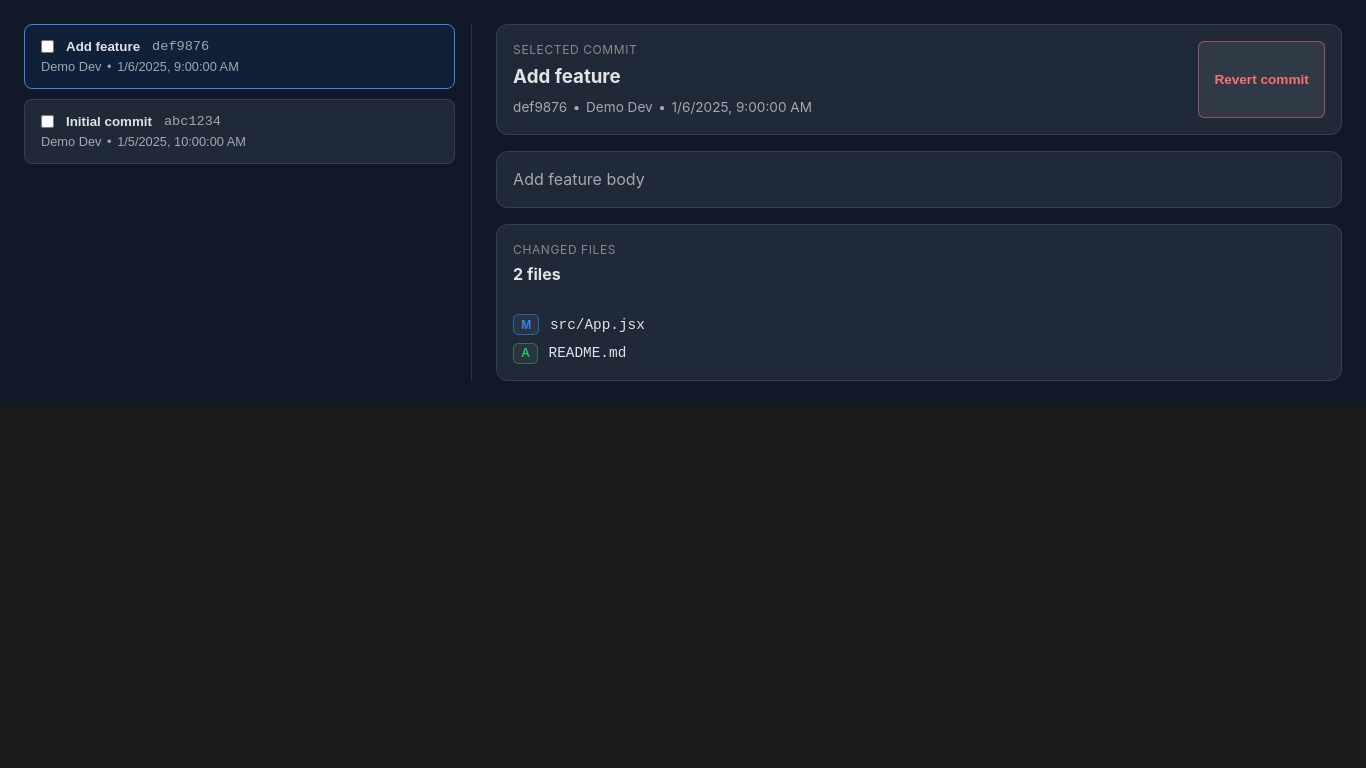
Test: CommitsTab › shows noop revert status when backend reports no changes to revert
Step 1. Click the button with test id "commit-revert" → (1262, 79), box top-left (1198, 41), bottom-right (1325, 118)
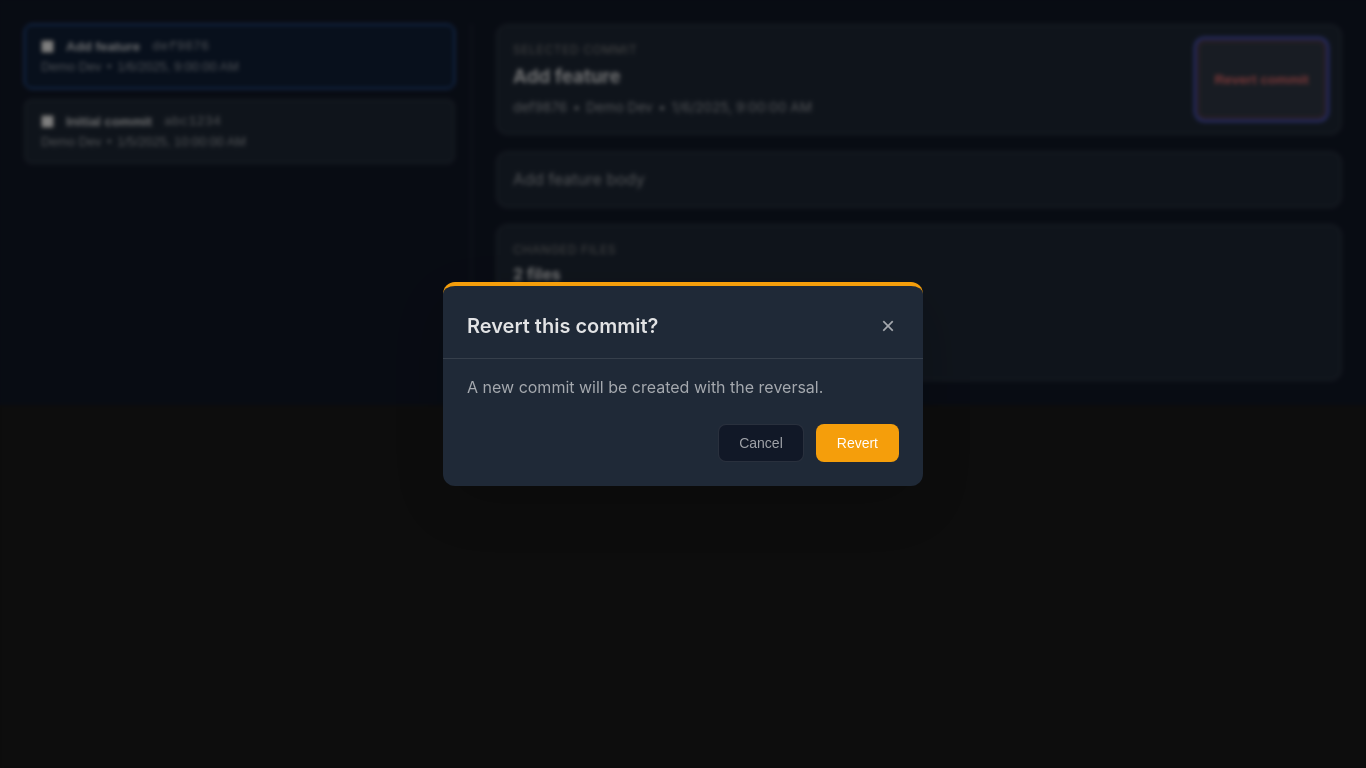
Now the element with test id "modal-content" is shown, box top-left (443, 282), bottom-right (923, 486)
Step 2. Click the button with test id "modal-confirm" → (857, 443), box top-left (816, 424), bottom-right (899, 462)
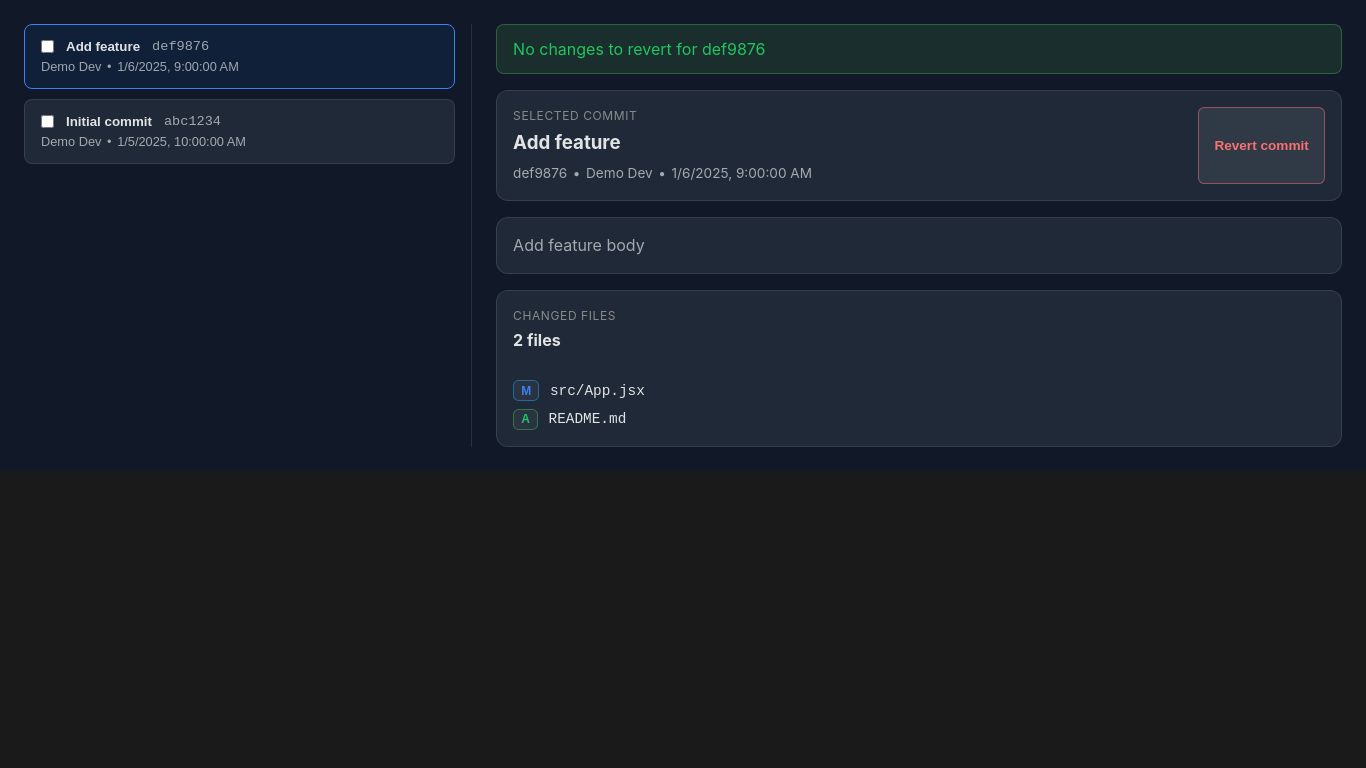
Now the text "No changes to revert for def9876" is shown, box top-left (496, 24), bottom-right (1342, 74)
